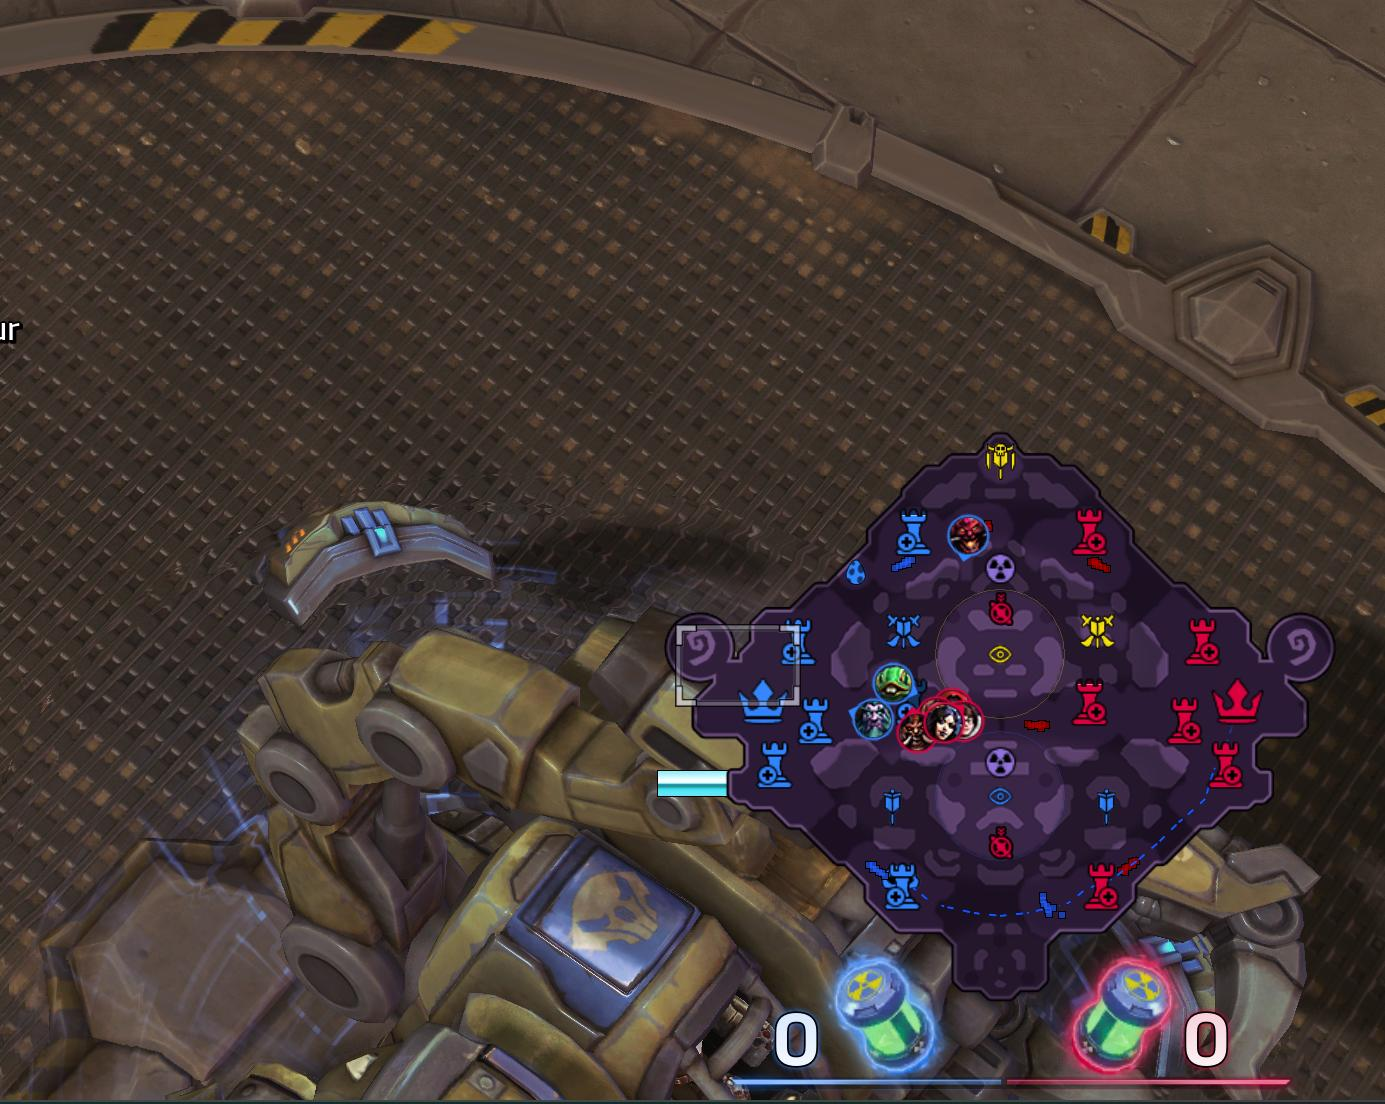blue player: (849, 697, 896, 744), (872, 661, 919, 707), (947, 513, 992, 561)
red player: (918, 690, 979, 746), (896, 710, 937, 755), (950, 699, 981, 740), (928, 705, 959, 741)
